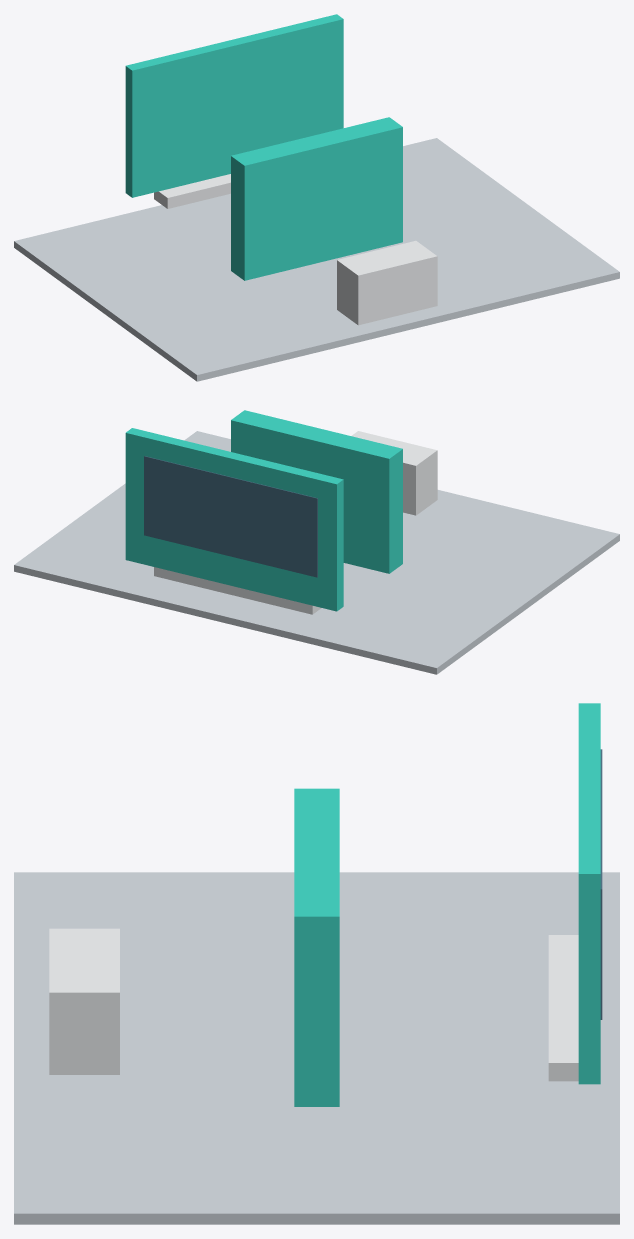
3 views of the same model, one above another, from view 1: azimuth 30°, elevation 25°; view 2: azimuth 150°, elevation 25°; view 3: azimuth 270°, elevation 25° (orthographic). The views are drawn at different scales.
Parts seen in each view (by area): view 1: Exhibition Booth Concept; view 2: Exhibition Booth Concept; view 3: Exhibition Booth Concept.
Boxes of the visible parts, left/top/right/bottom form: Exhibition Booth Concept: left=14, top=14, right=619, bottom=381; Exhibition Booth Concept: left=14, top=410, right=619, bottom=674; Exhibition Booth Concept: left=14, top=703, right=619, bottom=1224.
Bounding box in the file's own units: 8 × 2.9 × 6.
